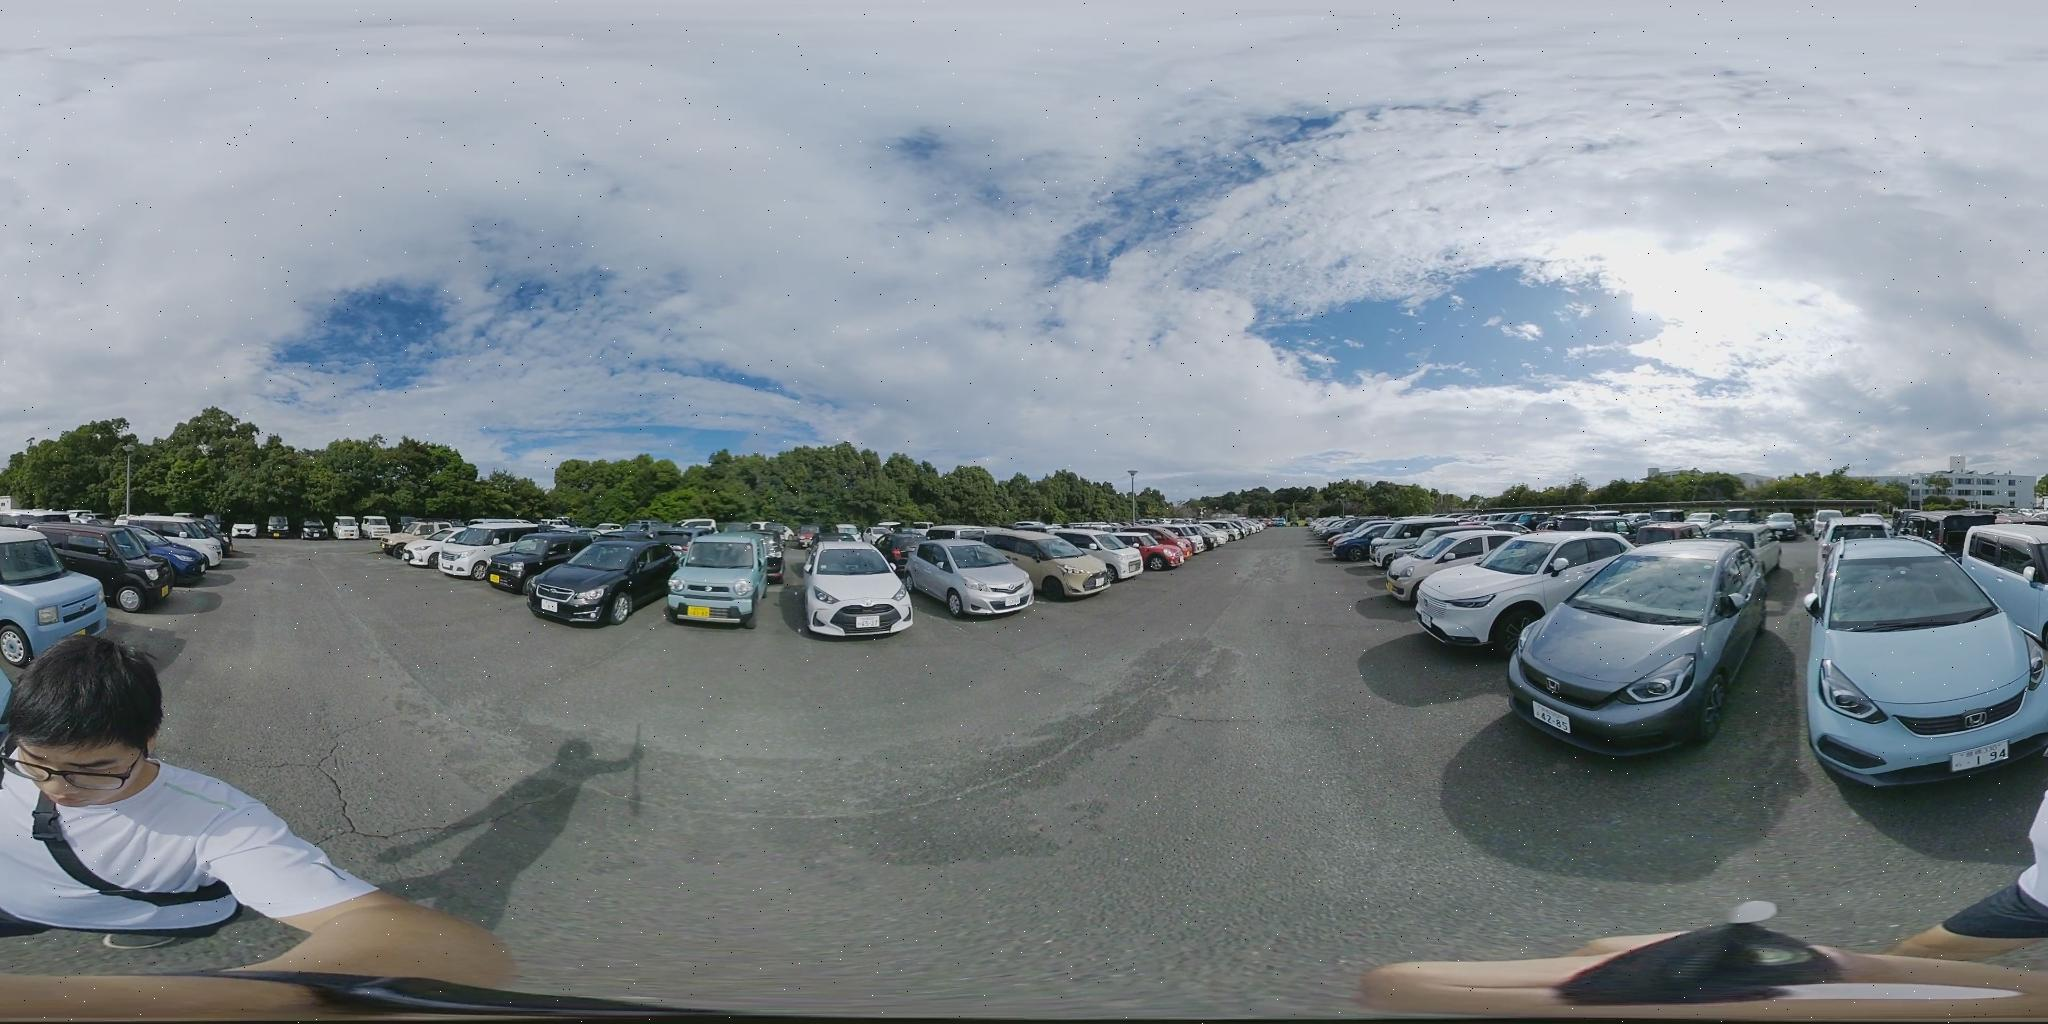car: (1502, 533, 1808, 759), (1799, 532, 2048, 790), (1407, 530, 1637, 649), (0, 529, 106, 670), (522, 538, 687, 627), (31, 525, 183, 613), (795, 541, 914, 637), (893, 541, 1038, 619), (1382, 533, 1540, 603), (669, 539, 776, 627), (985, 533, 1108, 598), (111, 516, 226, 576)
